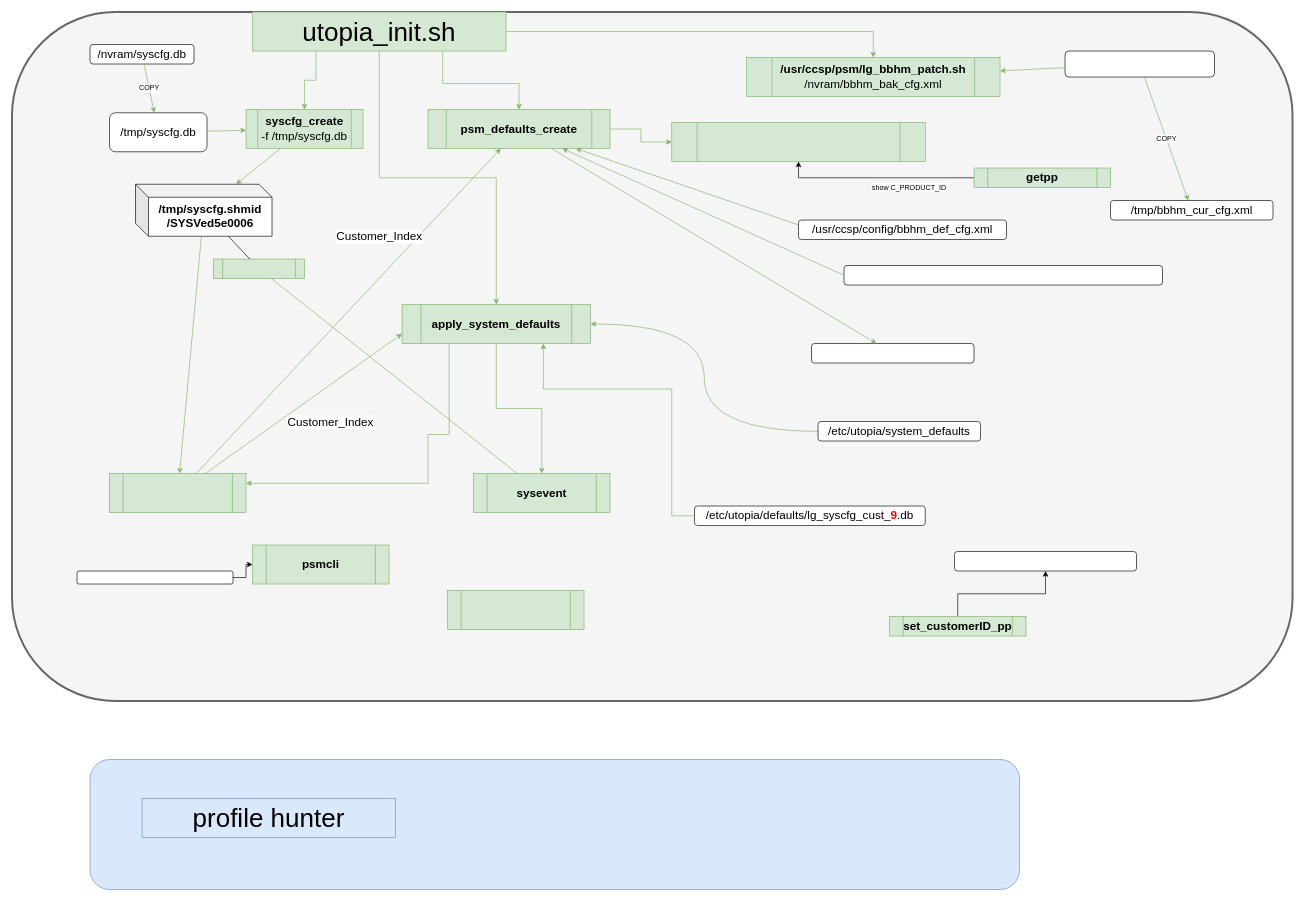
This 1305x901 diagram has some shape labels left out. The shapes that lost their labels are listed below. From the top down, each one's centre as x and y in pixels, then its label:
At (x=1139, y=63): "/nvram/bbhm_bak_cfg.xml".
At (x=798, y=142): "/usr/ccsp/psm/lg_bbhm_patch.sh /tmp/lg_bbhm_def_cfg.xml".
At (x=259, y=268): "syseventd".
At (x=1003, y=275): "/etc/utopia/defaults/lg_bbhm_cust_ 9 .xml".
At (x=892, y=353): "/tmp/lg_bbhm_def_cfg.xml".
At (x=177, y=493): "syscfg".
At (x=154, y=577): "/nvram/psmcli_debug_level".
At (x=1045, y=561): "/nvram/bootconfig_custindex".
At (x=515, y=610): "dmcli".
